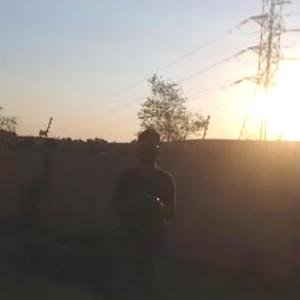follow: (108, 125, 179, 299)
